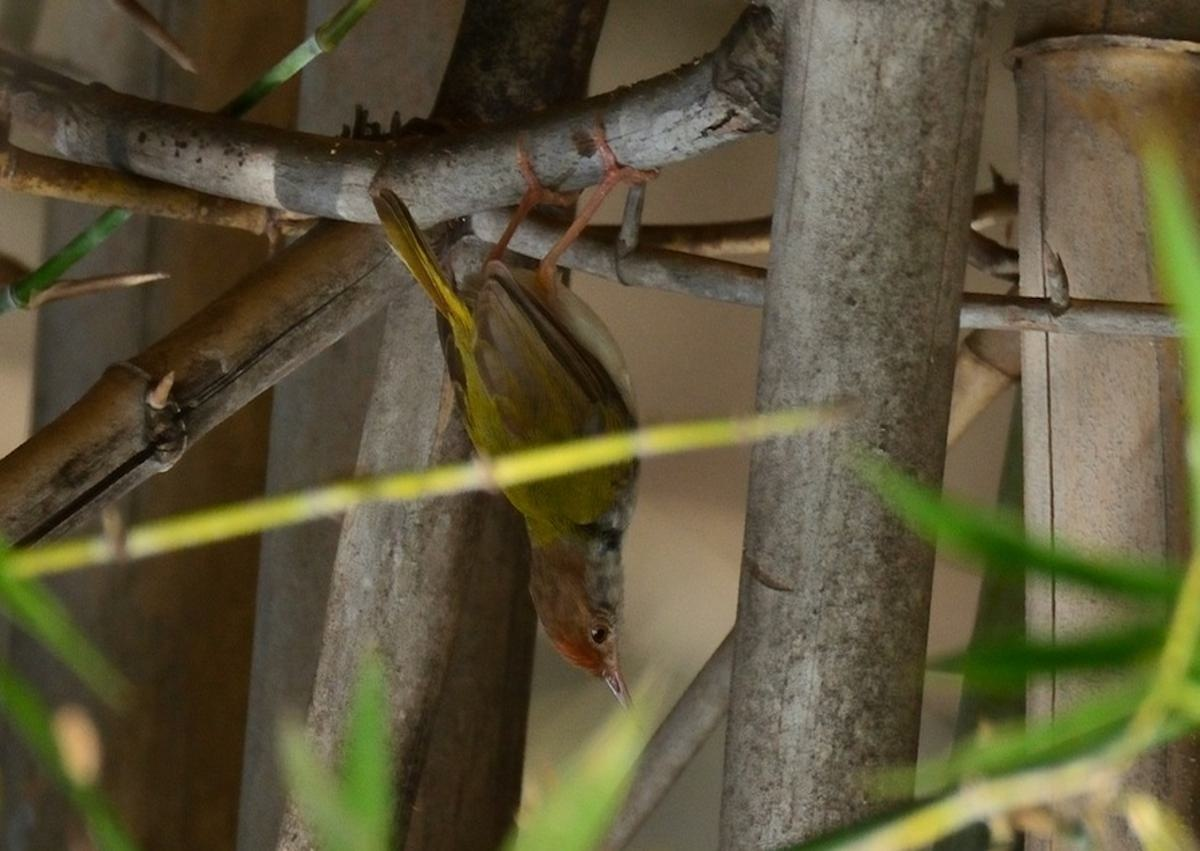tailorbird: (363, 179, 686, 691)
